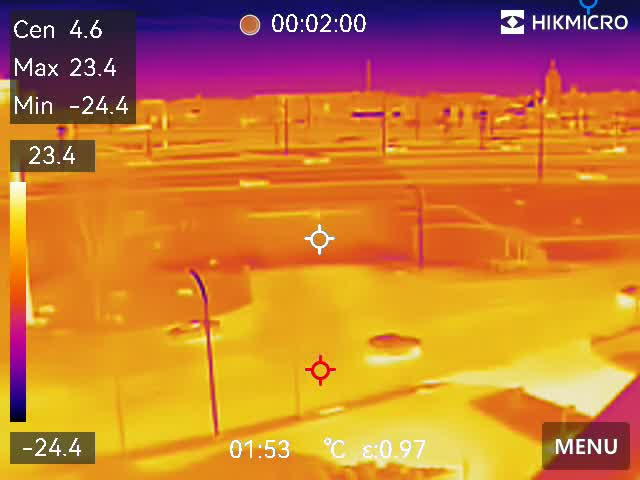smallCar: (369, 330, 421, 354), (159, 316, 221, 335)
vehicle: (574, 165, 612, 184), (235, 172, 274, 189), (301, 150, 334, 167), (496, 138, 526, 153), (380, 141, 412, 155)
